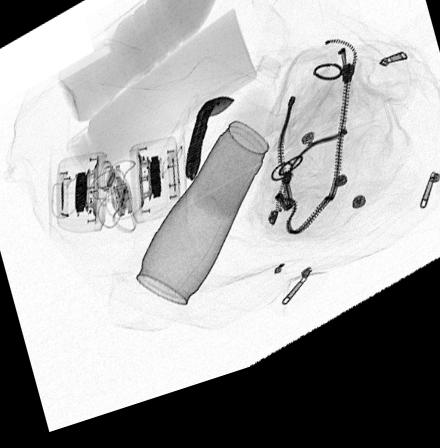Knife: (183, 107, 236, 195)
